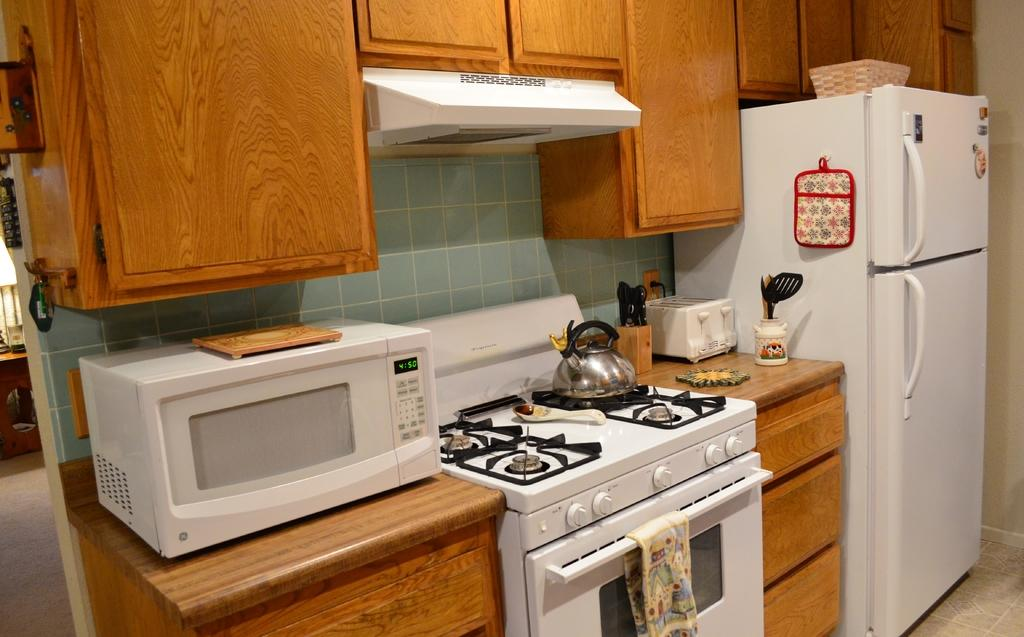cabinet_door: (92, 15, 362, 282), (626, 6, 740, 222), (276, 588, 490, 636), (362, 2, 506, 68), (762, 477, 844, 562), (513, 10, 615, 63), (737, 6, 801, 88), (768, 569, 846, 635), (760, 413, 850, 467), (802, 12, 856, 54), (939, 31, 979, 87), (942, 5, 972, 26)
handle: (542, 474, 768, 598), (898, 130, 924, 264), (899, 278, 924, 398)
